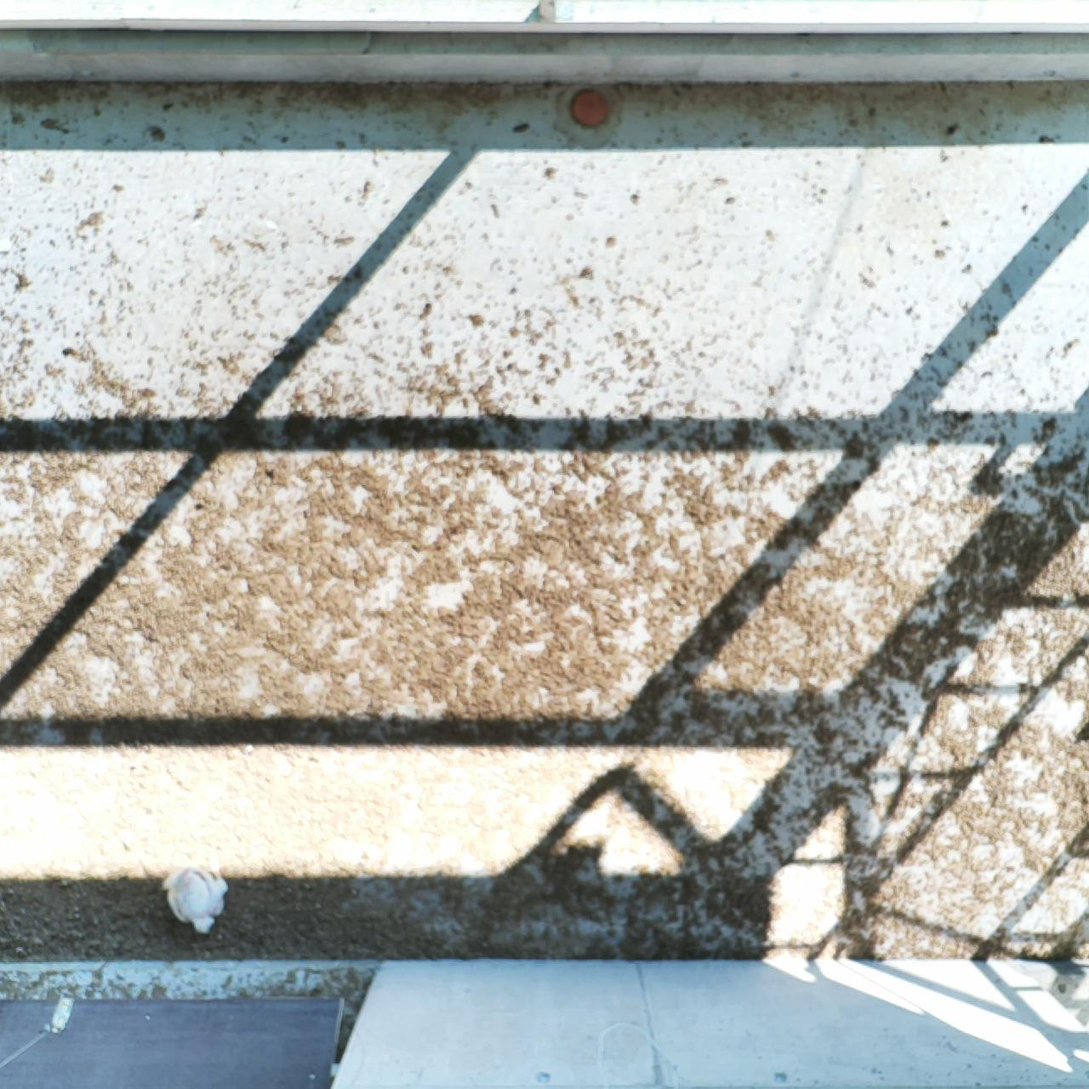chicken: (158, 857, 234, 938)
